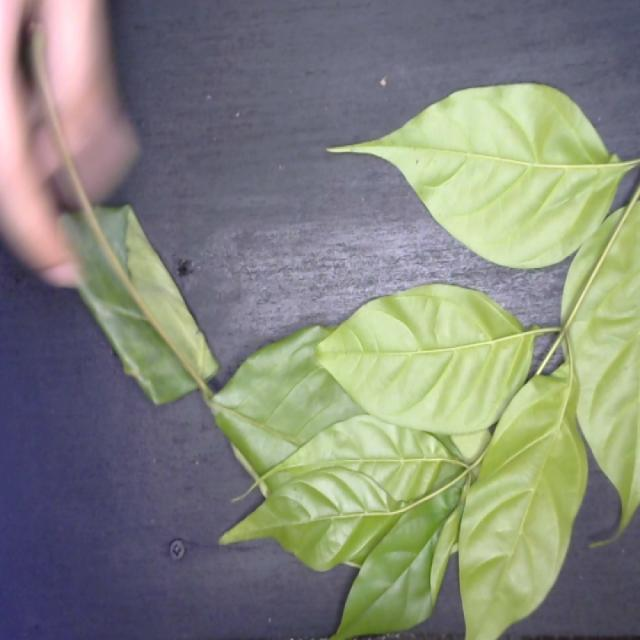biodegradable: (198, 80, 640, 640)
